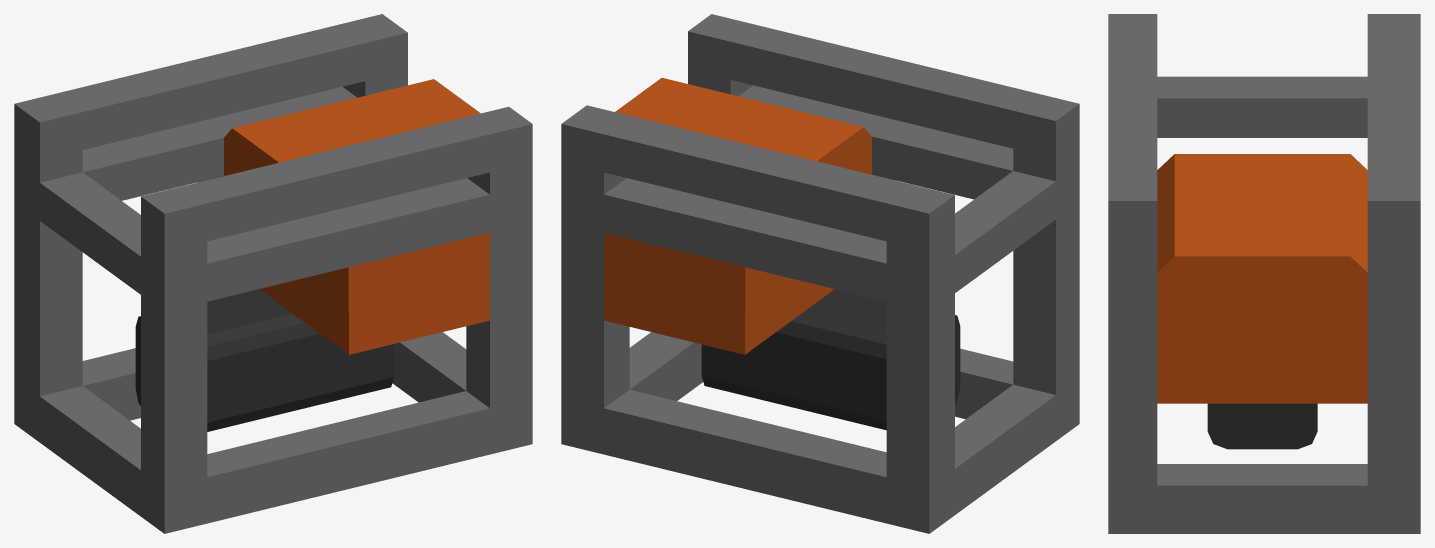
The picture shows the model from 3 angles, left to right: view 1: azimuth 30°, elevation 25°; view 2: azimuth 150°, elevation 25°; view 3: azimuth 270°, elevation 25°; orthographic projection. The views are drawn at different scales.
Parts seen in each view (by area): view 1: G-20; view 2: G-20; view 3: G-20.
Part boxes in pixels (left/top/right/bottom): G-20: left=14, top=14, right=532, bottom=533; G-20: left=561, top=14, right=1079, bottom=533; G-20: left=1108, top=14, right=1420, bottom=533.
Bounding box in the file's own units: 177 × 141 × 120.
